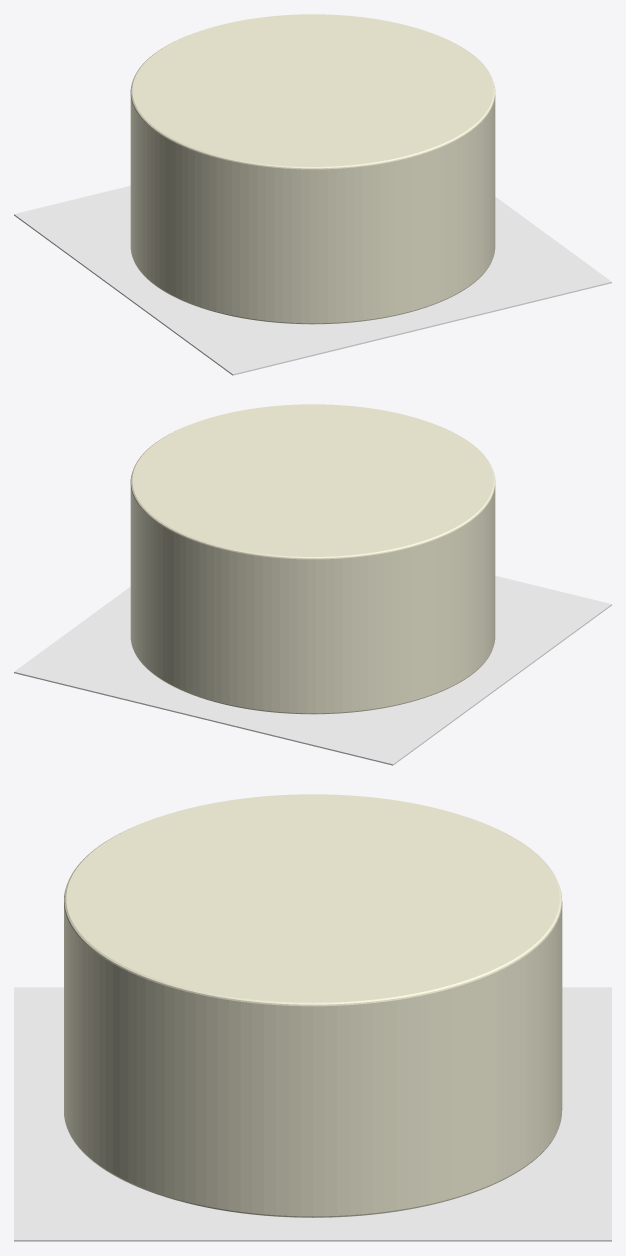
File: cake_10in_layers3_v26.glb
The picture shows the model from 3 angles, top to bottom: view 1: azimuth 30°, elevation 25°; view 2: azimuth 150°, elevation 25°; view 3: azimuth 270°, elevation 25°; orthographic projection. The views are drawn at different scales.
Visible parts, largest first — view 1: Cake, Board; view 2: Cake, Board; view 3: Cake, Board.
Boxes of the visible parts, x1,y1,x2,y2 form: Cake: (130,14,495,324); Board: (14,185,611,375); Cake: (130,404,495,714); Board: (14,575,611,765); Cake: (64,794,562,1217); Board: (14,987,611,1241).
Bounding box in the file's own units: 0.3 × 0.12 × 0.3.
